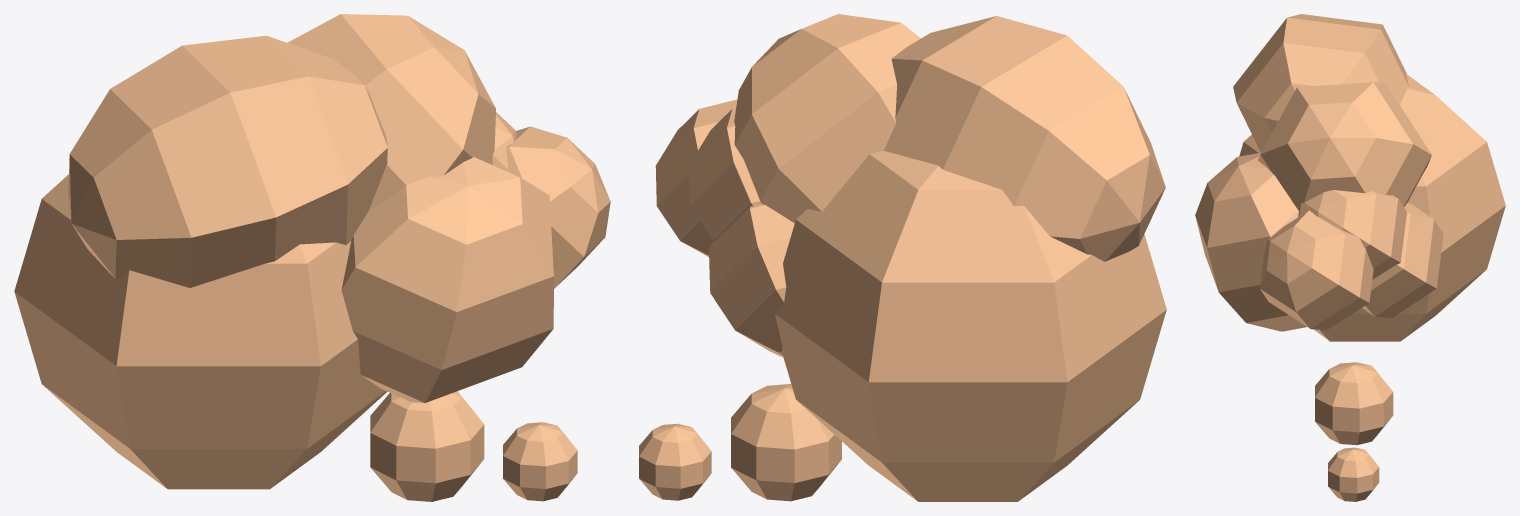
Rendered from neutral_cloud_lower_poly_emotive_broken1.gltf.
3 renders of one model, left to right at view 1: azimuth 30°, elevation 25°; view 2: azimuth 150°, elevation 25°; view 3: azimuth 270°, elevation 25°, orthographic. The views are drawn at different scales.
Visible parts, largest first — view 1: Sphere.002, Sphere.008, Sphere.009, Sphere.004, Sphere.011, Sphere.007, Sphere.010, Sphere.006; view 2: Sphere.002, Sphere.008, Sphere.004, Sphere.011, Sphere.005, Sphere.006, Sphere.007, Sphere.010; view 3: Sphere.002, Sphere.004, Sphere.008, Sphere.009, Sphere.007, Sphere.011, Sphere.006, Sphere.005, Sphere.010.
Part boxes in pixels (x1,y1,x2,y2): Sphere.002: [14, 174, 387, 489]; Sphere.008: [68, 35, 387, 287]; Sphere.009: [341, 157, 553, 402]; Sphere.004: [287, 14, 495, 211]; Sphere.011: [370, 391, 484, 501]; Sphere.007: [506, 126, 610, 288]; Sphere.010: [503, 422, 577, 501]; Sphere.006: [492, 112, 516, 171]; Sphere.002: [775, 150, 1166, 501]; Sphere.008: [884, 16, 1165, 261]; Sphere.004: [734, 14, 920, 223]; Sphere.011: [731, 384, 841, 501]; Sphere.005: [709, 204, 794, 357]; Sphere.006: [689, 107, 761, 241]; Sphere.007: [655, 99, 737, 256]; Sphere.010: [639, 423, 711, 500]; Sphere.002: [1239, 74, 1505, 341]; Sphere.004: [1258, 82, 1431, 210]; Sphere.008: [1233, 14, 1409, 152]; Sphere.009: [1195, 152, 1306, 331]; Sphere.007: [1260, 210, 1373, 330]; Sphere.011: [1315, 362, 1393, 445]; Sphere.006: [1298, 190, 1406, 279]; Sphere.005: [1362, 202, 1443, 317]; Sphere.010: [1328, 447, 1379, 501].
Bounding box in the file's own units: 1.25 × 1.24 × 0.9661.
